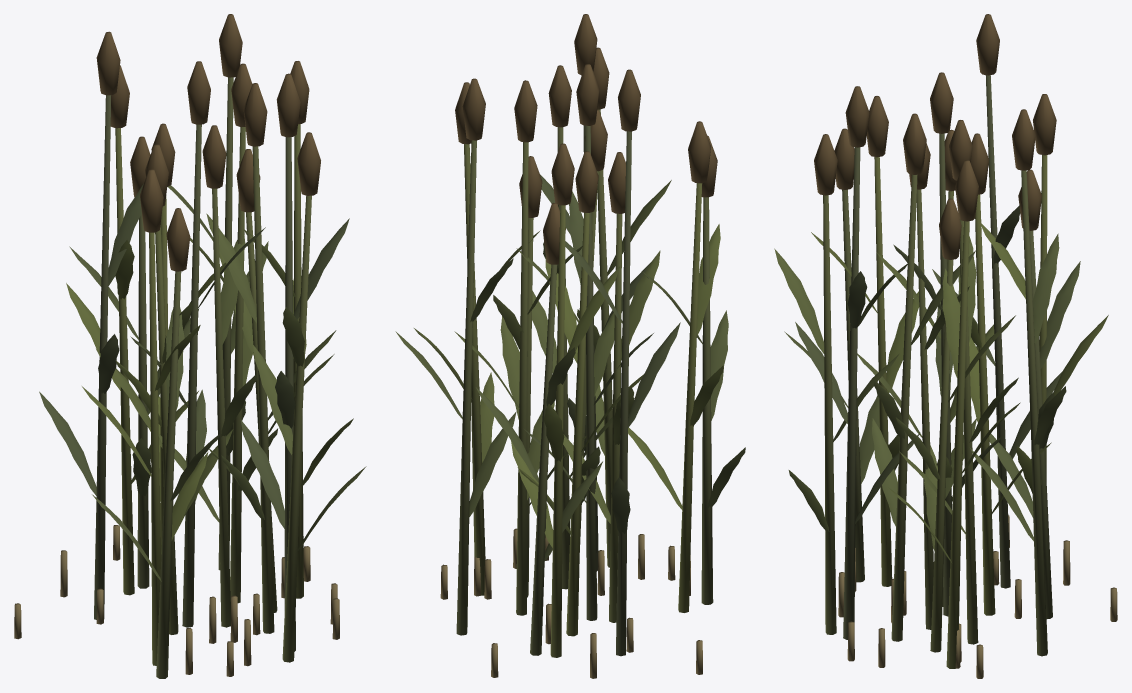
Rendered from reed-12-lod0.gltf.
The picture shows the model from 3 angles, left to right: view 1: azimuth 30°, elevation 25°; view 2: azimuth 150°, elevation 25°; view 3: azimuth 270°, elevation 25°; orthographic projection. The views are drawn at different scales.
Parts seen in each view (by area): view 1: Reed 12 L0; view 2: Reed 12 L0; view 3: Reed 12 L0.
Boxes of the visible parts, box(x1,y1,x2,y2) form: Reed 12 L0: box(14, 14, 366, 678); Reed 12 L0: box(395, 14, 745, 678); Reed 12 L0: box(774, 14, 1117, 678).
Size of the model in its own units: 0.643 by 1.25 by 0.683.
